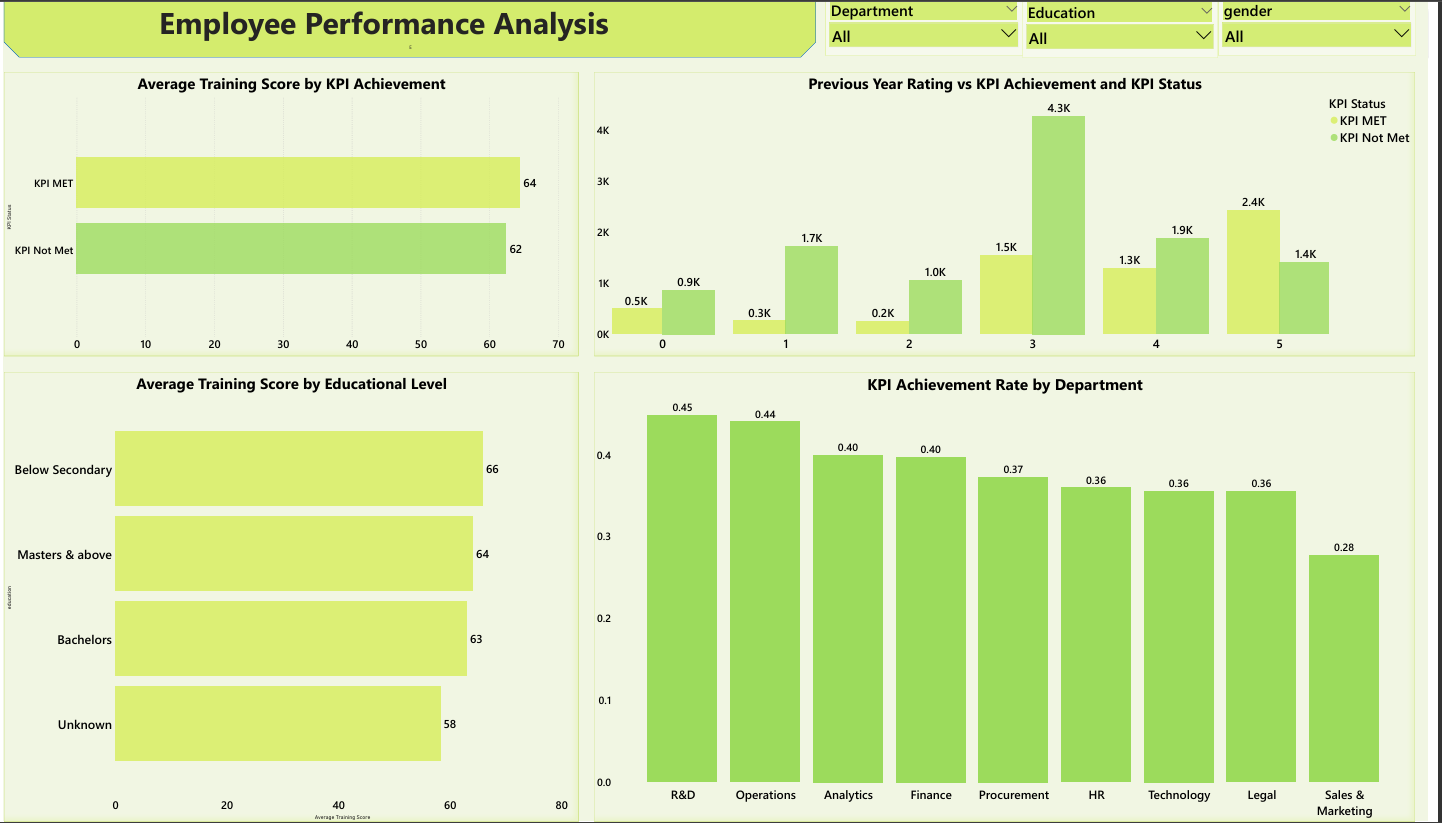

Layout of this report page (visuals, bound fields, positions):
{"tool":"powerbi","page":{"name":"Performance","canvas":[3800,2200],"ordinal":1},"visuals":[{"type":"shape","box":[0,0,2165.2,160.9],"z":0},{"type":"textbox","title":" Employee  Performance   Analysis","box":[409.1,13.6,1345.5,150],"z":1000},{"type":"clusteredBarChart","title":" Average Training Score by KPI Achievement","fields":{"Category":["employees_cleaned.KPI Status"],"Y":["employees_cleaned.Average Training Score"]},"box":[0,200,1531.6,757.9],"z":2000},{"type":"slicer","title":"Departme","fields":{"Values":["employees_cleaned.department"]},"box":[2191.3,0,526.1,156.5],"z":3000},{"type":"slicer","fields":{"Values":["employees_cleaned.education"]},"box":[2715.8,5.3,521.1,157.9],"z":4000},{"type":"slicer","fields":{"Values":["employees_cleaned.gender"]},"box":[3239.1,0,526.1,156.5],"z":5000},{"type":"clusteredColumnChart","title":"Previous Year Rating vs KPI Achievement      and KPI Status","fields":{"Category":["employees_cleaned.previous_year_rating"],"Y":["CountNonNull(employees_cleaned.employee_id)"],"Series":["employees_cleaned.KPI Status"]},"box":[1573.7,200,2189.5,757.9],"z":6000},{"type":"clusteredColumnChart","title":"KPI Achievement Rate by Department","fields":{"Category":["employees_cleaned.department"],"Y":["Avg(employees_cleaned.KPIs_met_more_than_80)"]},"box":[1573.7,1000,2189.5,1200],"z":7000},{"type":"clusteredBarChart","title":"Average Training Score by Educational Level","fields":{"Category":["employees_cleaned.education"],"Y":["employees_cleaned.Average Training Score"]},"box":[0,1000,1531.6,1200],"z":8000}]}

Visuals, with their boxes in screenshot pixels (x1, y1, x2, y2), scaled from the page's 3800x2200 canvas onto the 1442x823 screenshot:
shape: box=[0, 0, 822, 60]
" Employee  Performance   Analysis" textbox: box=[155, 5, 666, 61]
" Average Training Score by KPI Achievement" clusteredBarChart: box=[0, 75, 581, 358]
"Departme" slicer: box=[832, 0, 1031, 59]
slicer - employees_cleaned.education: box=[1031, 2, 1228, 61]
slicer - employees_cleaned.gender: box=[1229, 0, 1429, 59]
"Previous Year Rating vs KPI Achievement      and KPI Status" clusteredColumnChart: box=[597, 75, 1428, 358]
"KPI Achievement Rate by Department" clusteredColumnChart: box=[597, 374, 1428, 822]
"Average Training Score by Educational Level" clusteredBarChart: box=[0, 374, 581, 822]
